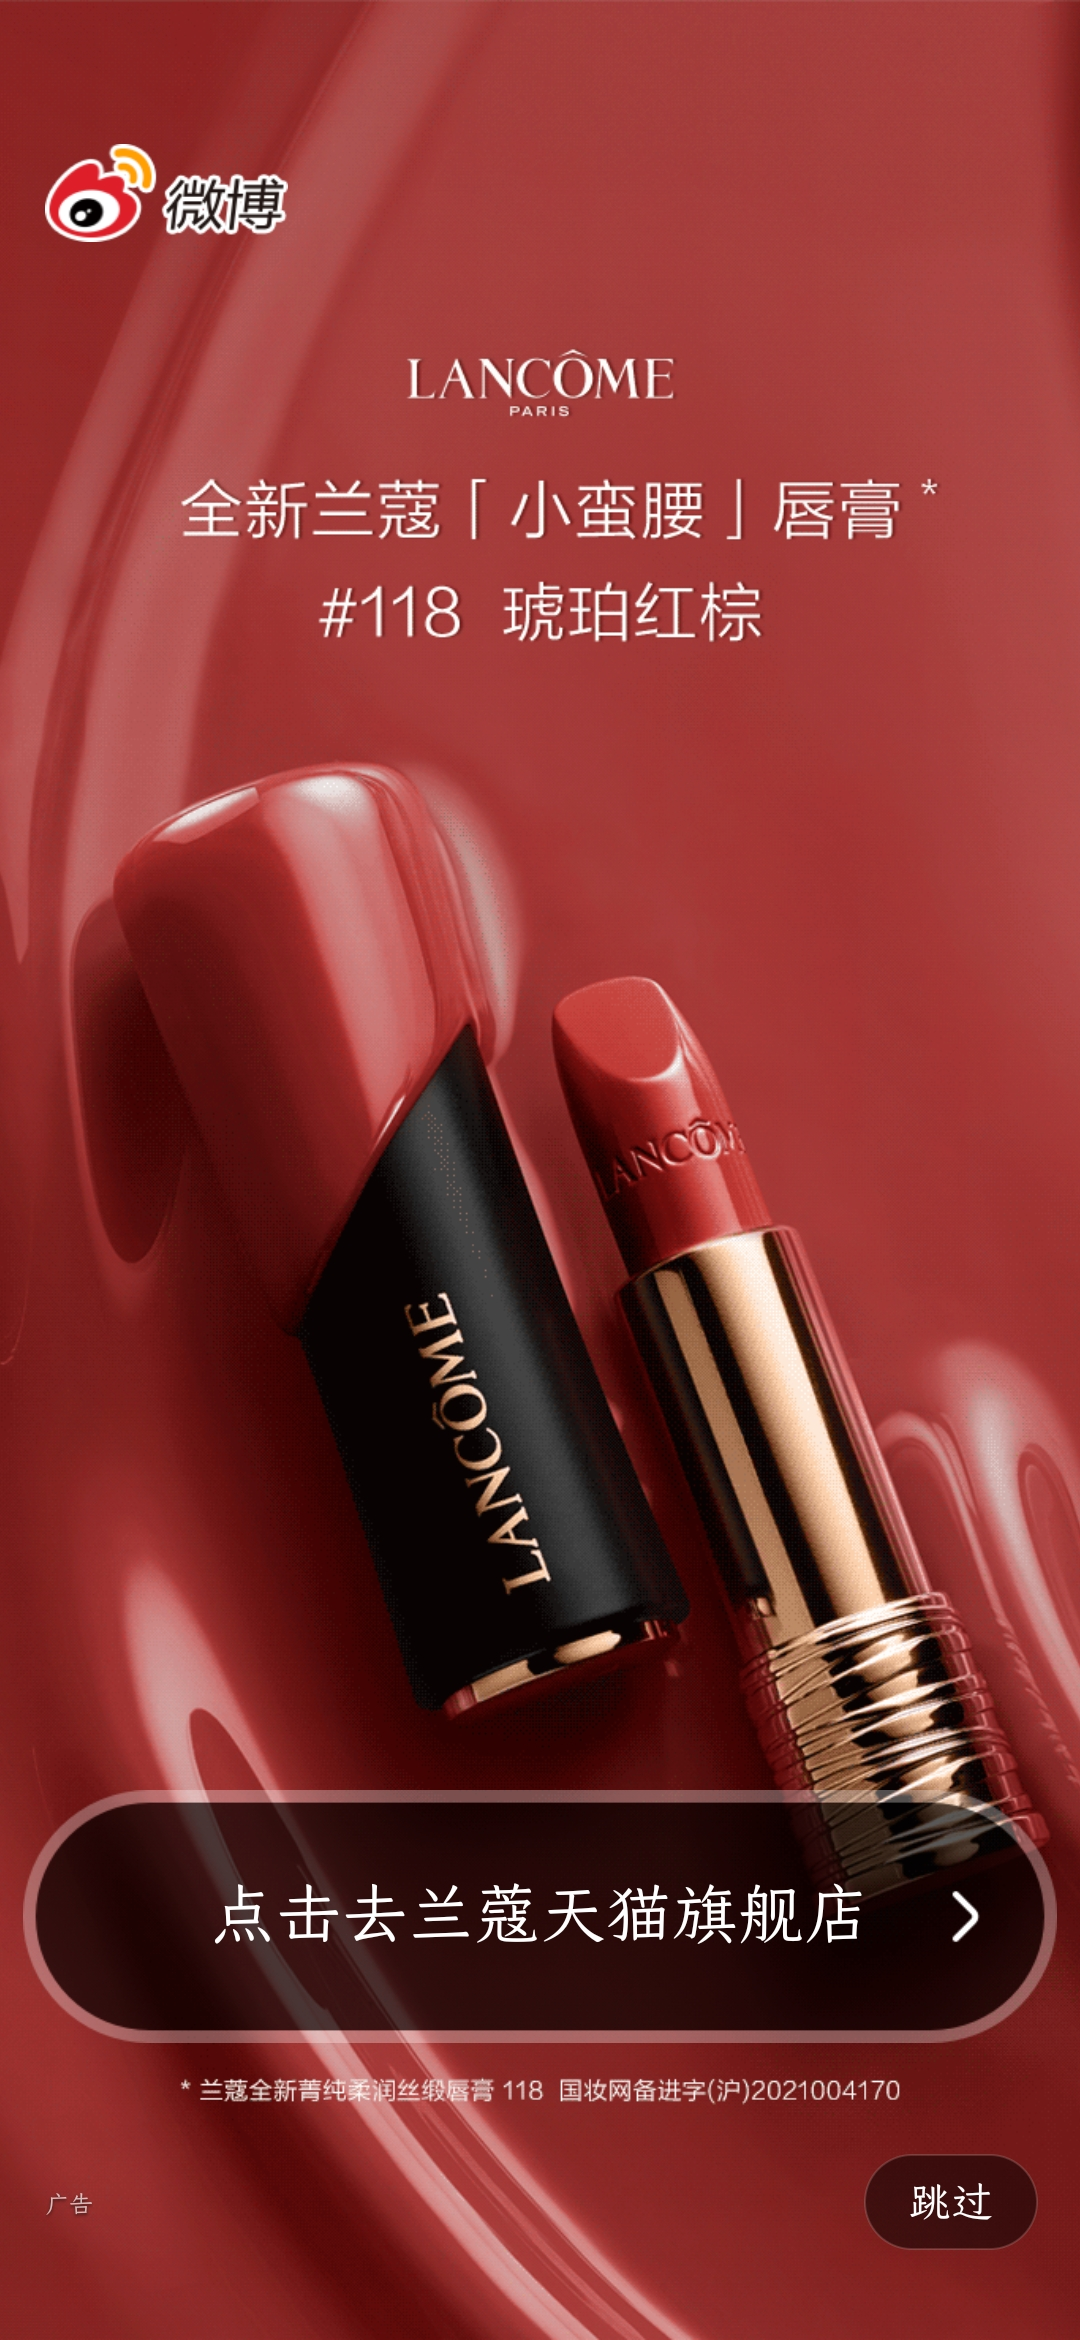skip: (882, 2159, 1011, 2250)
